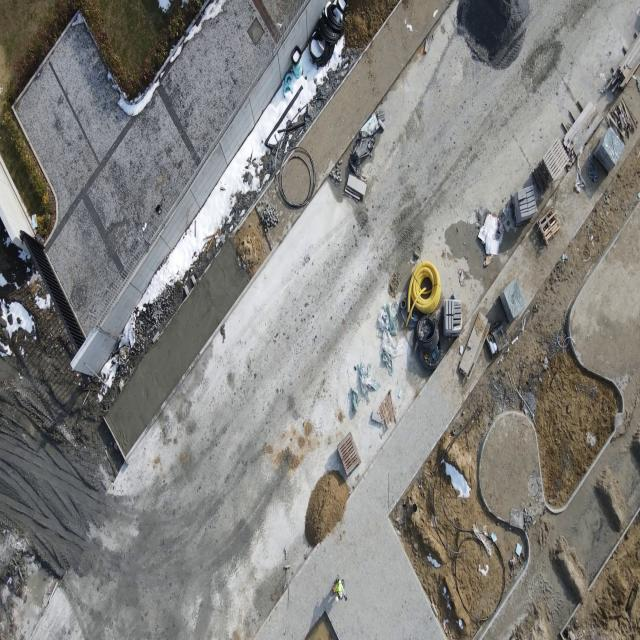p3rson: (331, 572, 348, 602)
